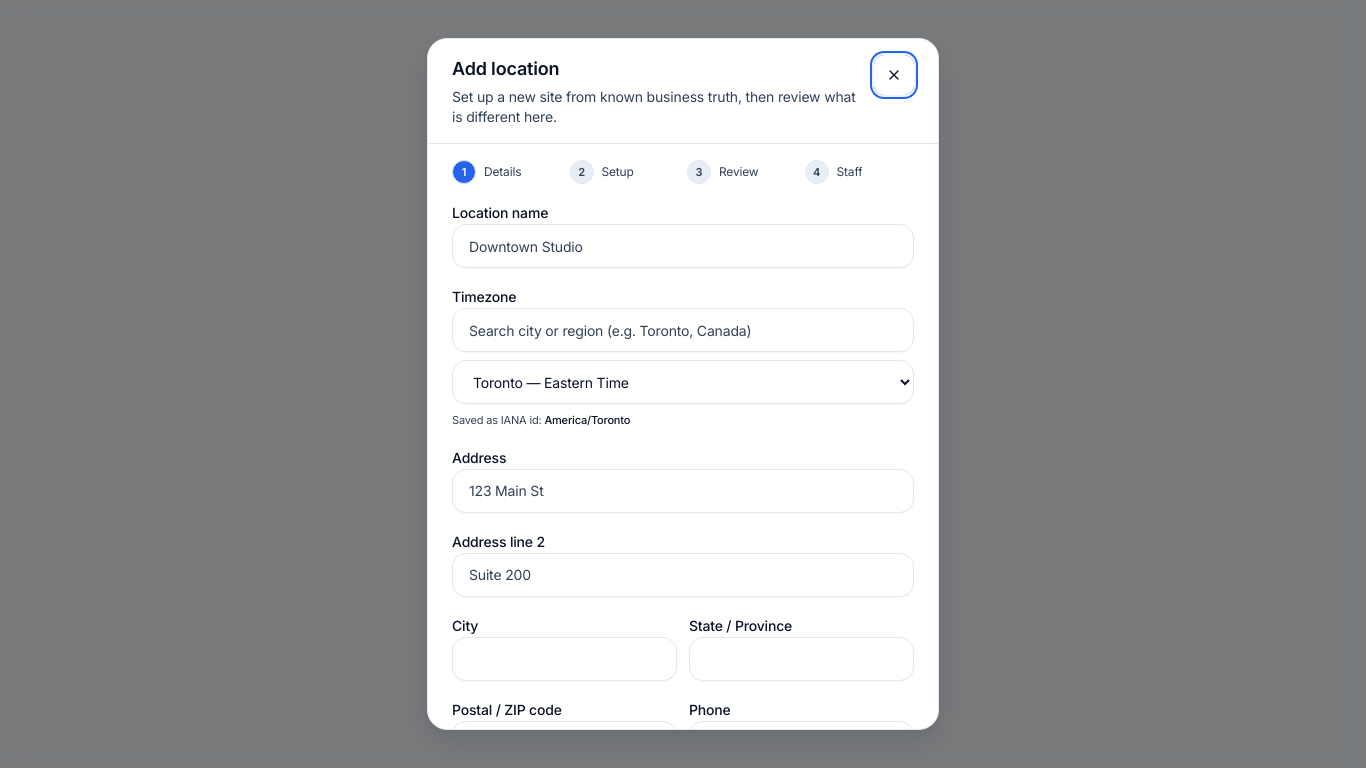
Test: Stage 1C Add Location workflow › exposes accessible setup choices and truthful Start blank preview
The width and height of the screenshot is (1366, 768).
expect the dialog "Add location" is shown: met, box [427,38,939,730]
expect the button named "Close dialog" is shown: met, box [874,55,914,95]
Type "Downtown" into the field labelled "Location name" at coordinates (683, 246), box [452,224,914,268]
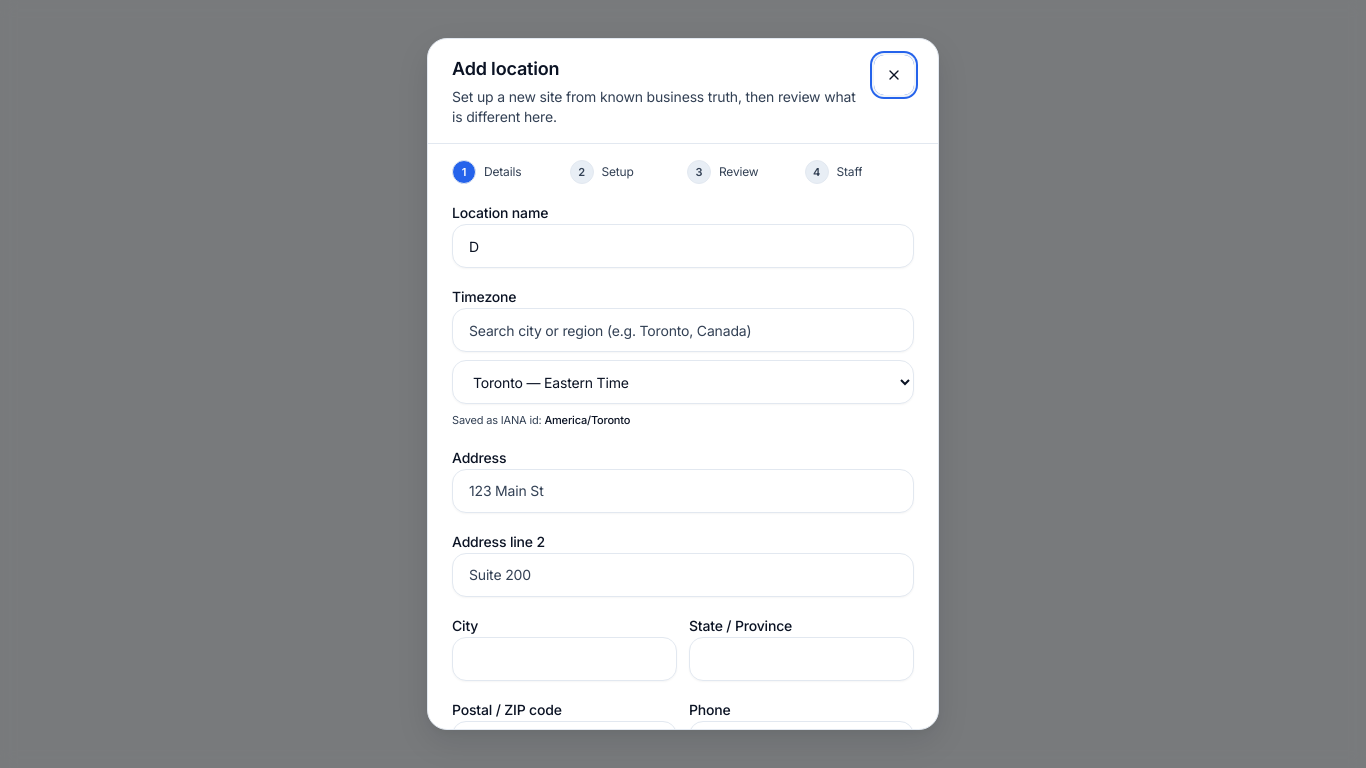
Select "Vancouver — Pacific Time" in the dropdown labelled "Timezone" at coordinates (683, 382), box [452,360,914,404]
(page scrolled)
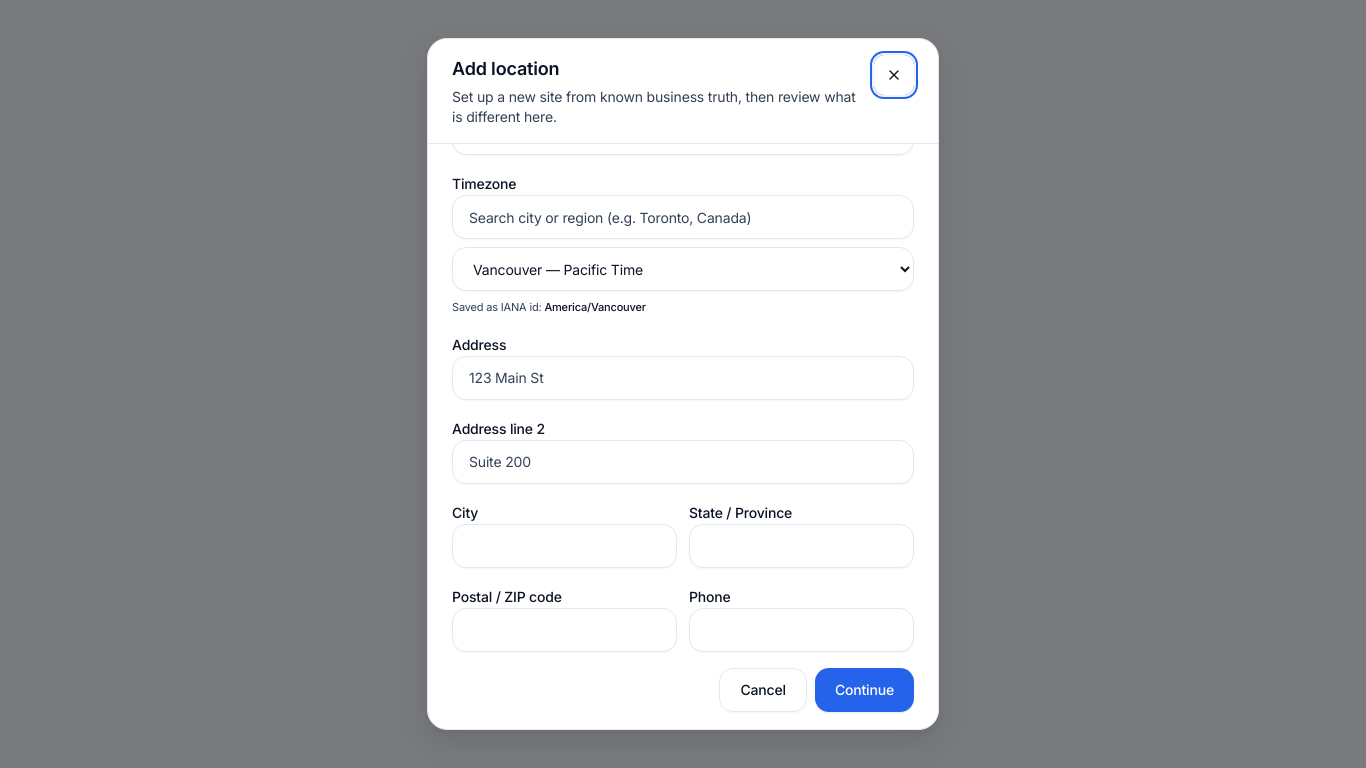
Click the button "Continue" at coordinates (864, 690), box [815,668,914,712]
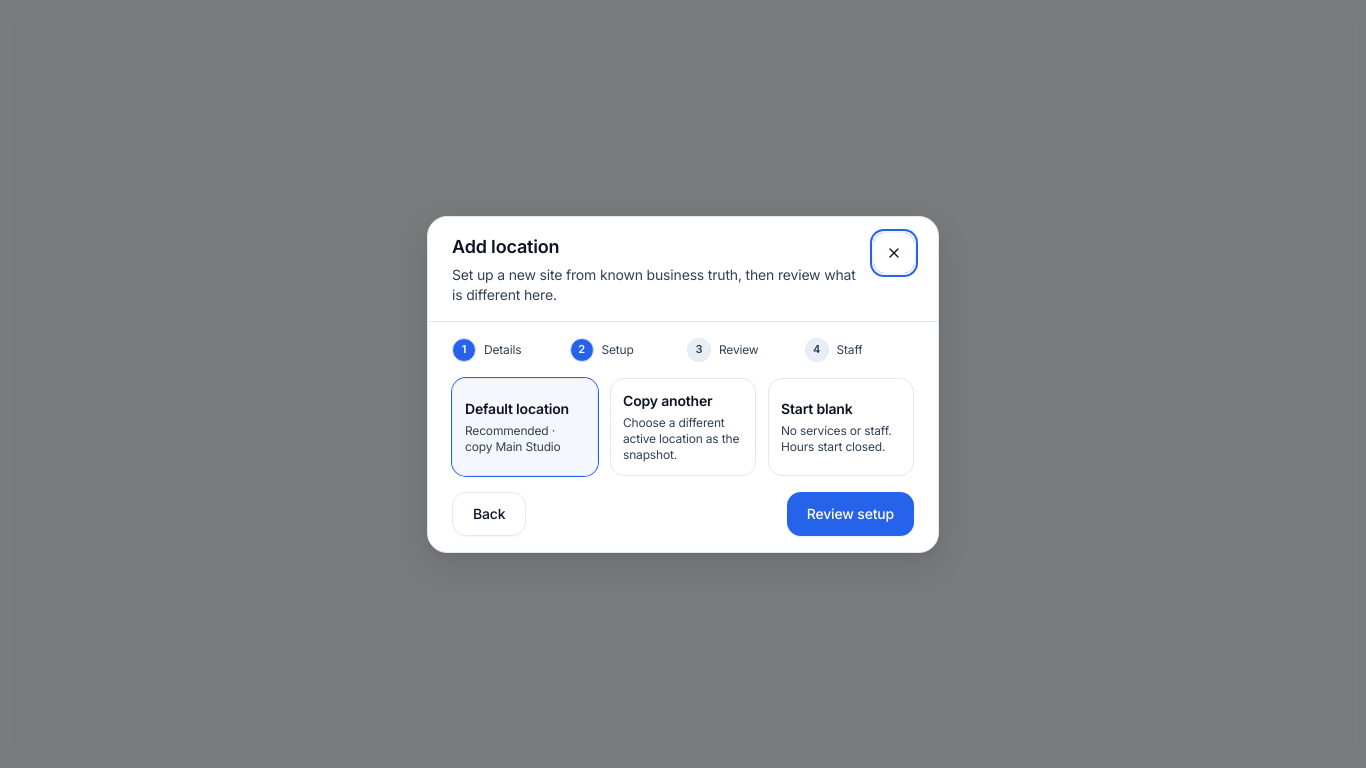
Click the button "Start blank No services or staff. Hours start closed." at coordinates (841, 426), box [768,378,914,476]
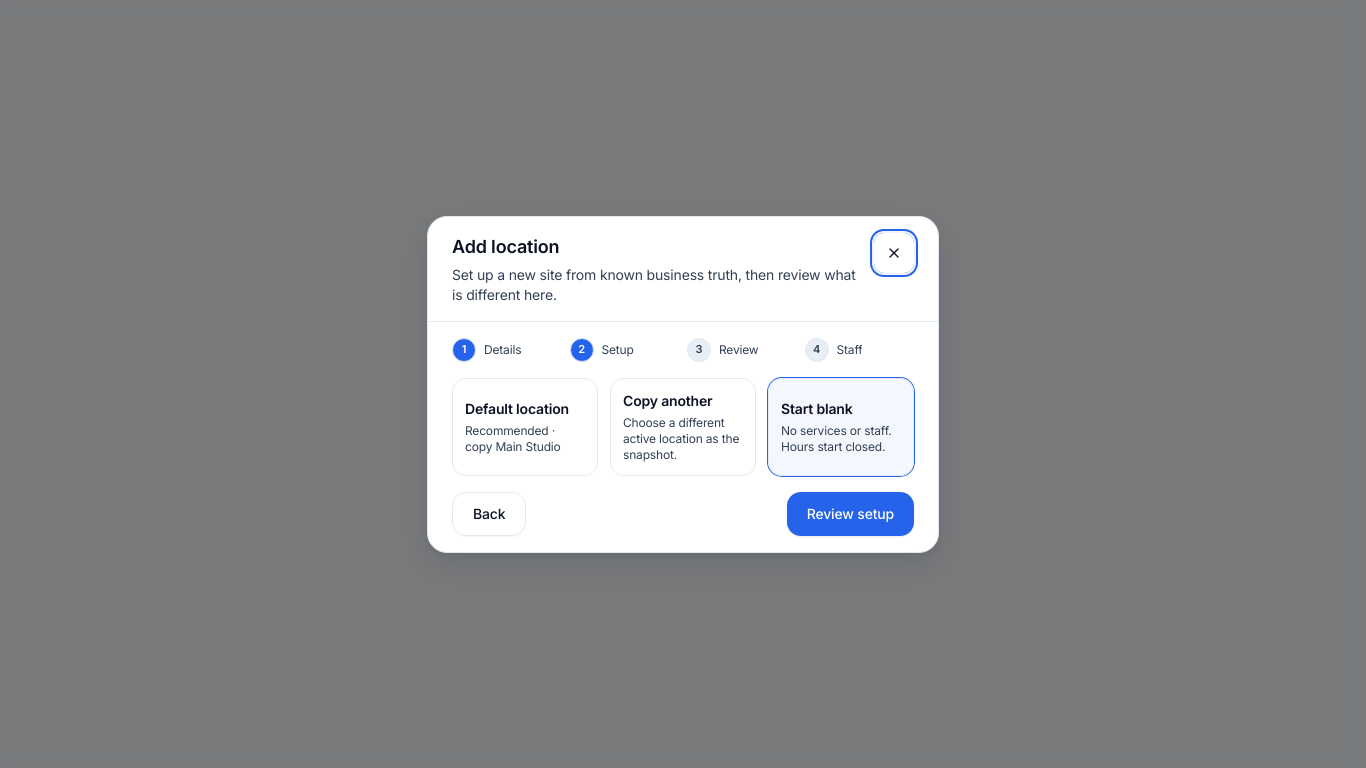
Click the button "Review setup" at coordinates (850, 514), box [787,492,914,536]
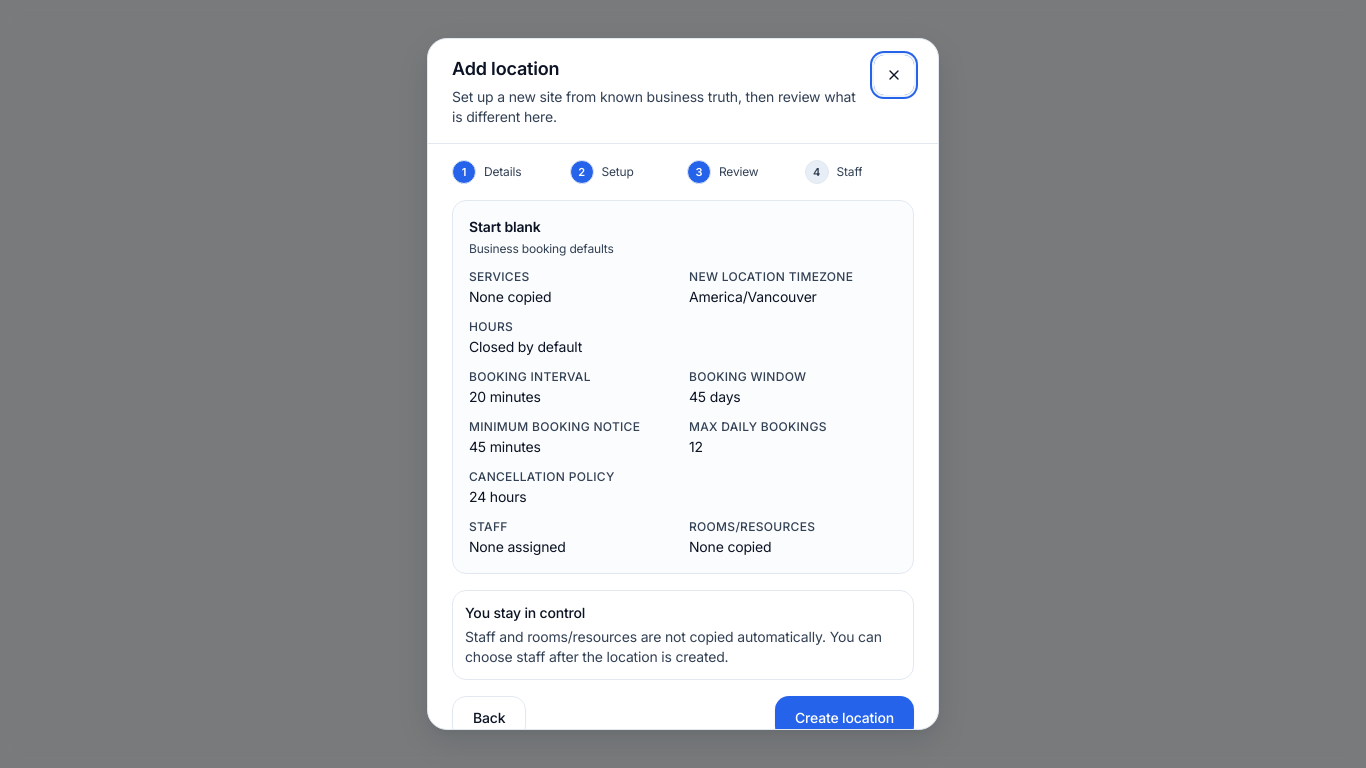
expect the text "Start blank" is shown: met, box [469,218,540,235]
expect the text "None copied" is shown 2 times: met, box [469,288,552,305]; [689,538,772,555]
expect the text "Closed by default" is shown: met, box [469,338,582,355]
